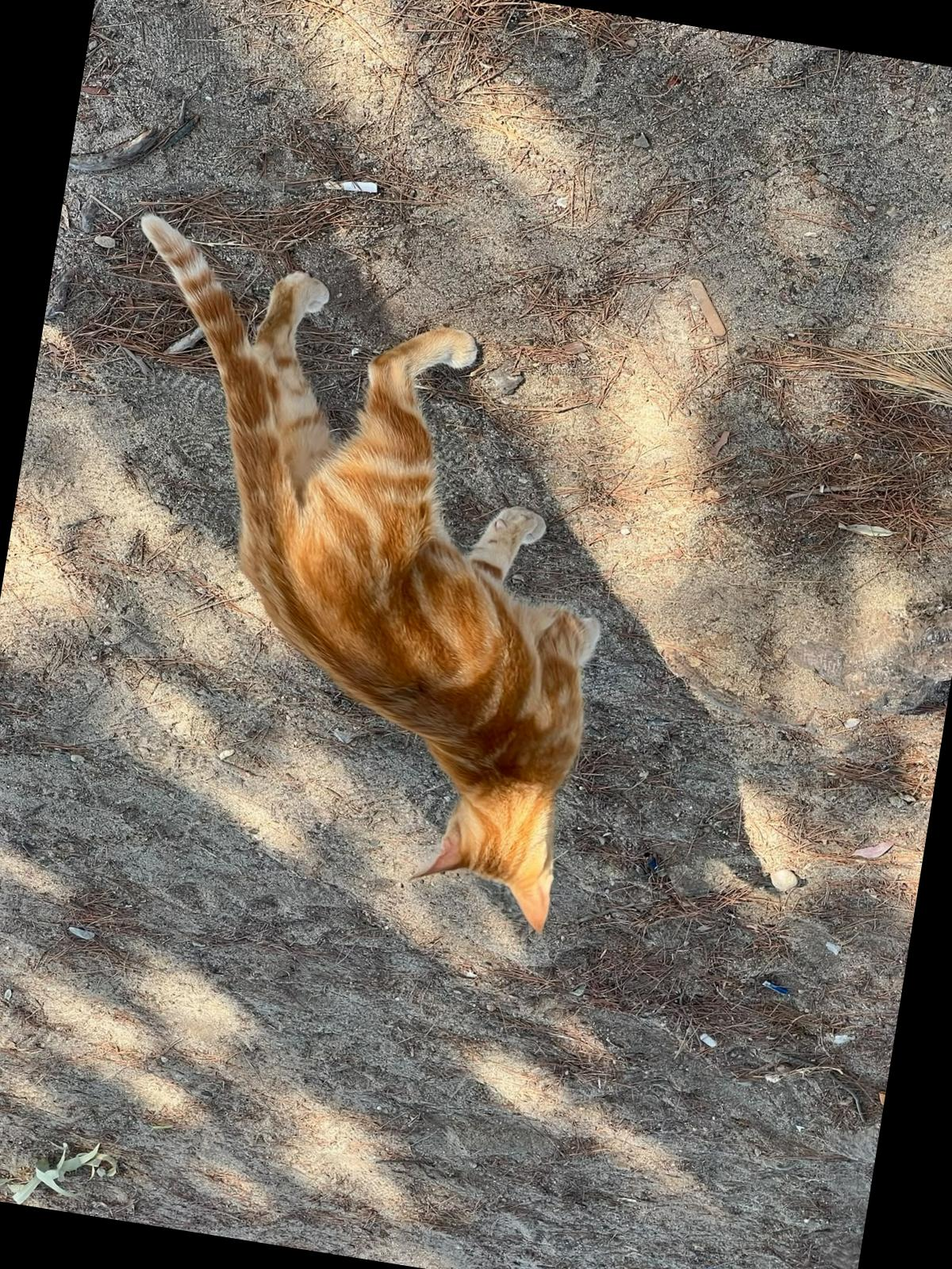macka: (37, 206, 662, 936)
